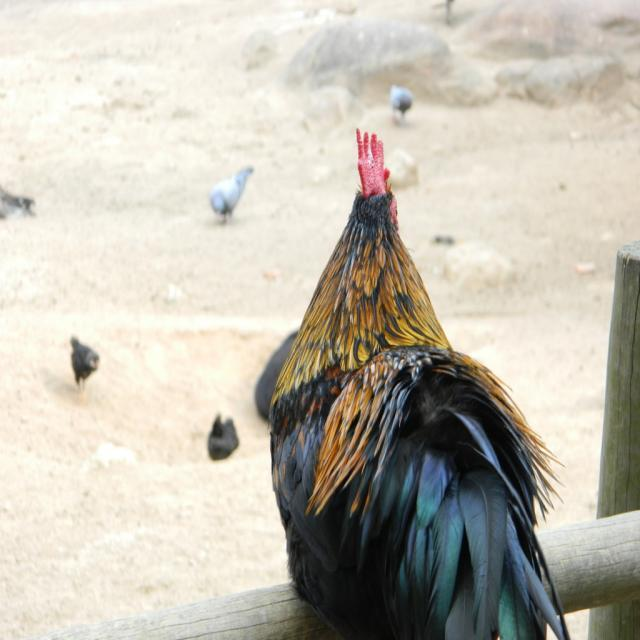Chicken: (263, 120, 640, 640)
